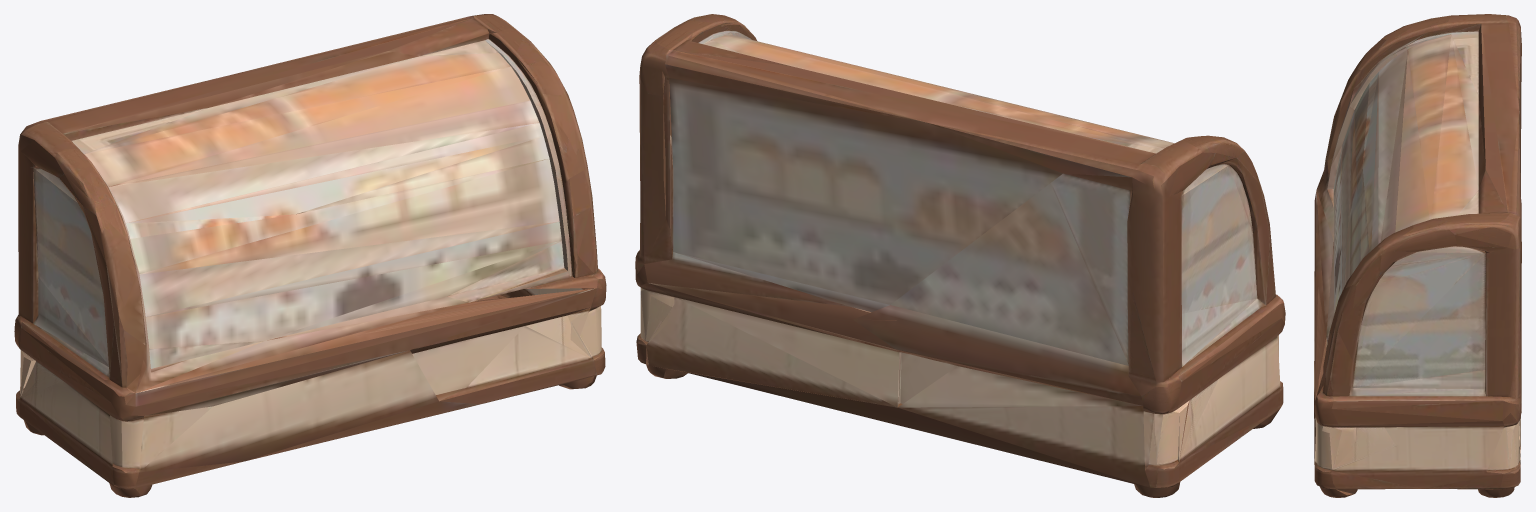
The model's file is cafe-bread-showcase.glb.
The picture shows the model from 3 angles, left to right: view 1: azimuth 30°, elevation 25°; view 2: azimuth 150°, elevation 25°; view 3: azimuth 270°, elevation 25°; orthographic projection. The views are drawn at different scales.
Visible parts, largest first — view 1: cafe-bread-showcase-fit; view 2: cafe-bread-showcase-fit; view 3: cafe-bread-showcase-fit.
Part boxes in pixels (bbox=[...]): cafe-bread-showcase-fit: bbox=[14, 14, 606, 497]; cafe-bread-showcase-fit: bbox=[635, 14, 1285, 497]; cafe-bread-showcase-fit: bbox=[1314, 14, 1521, 497].
Size of the model in its own units: 1.8 by 1.05 by 0.7186.
Materials: 1 (1 with a texture image).
